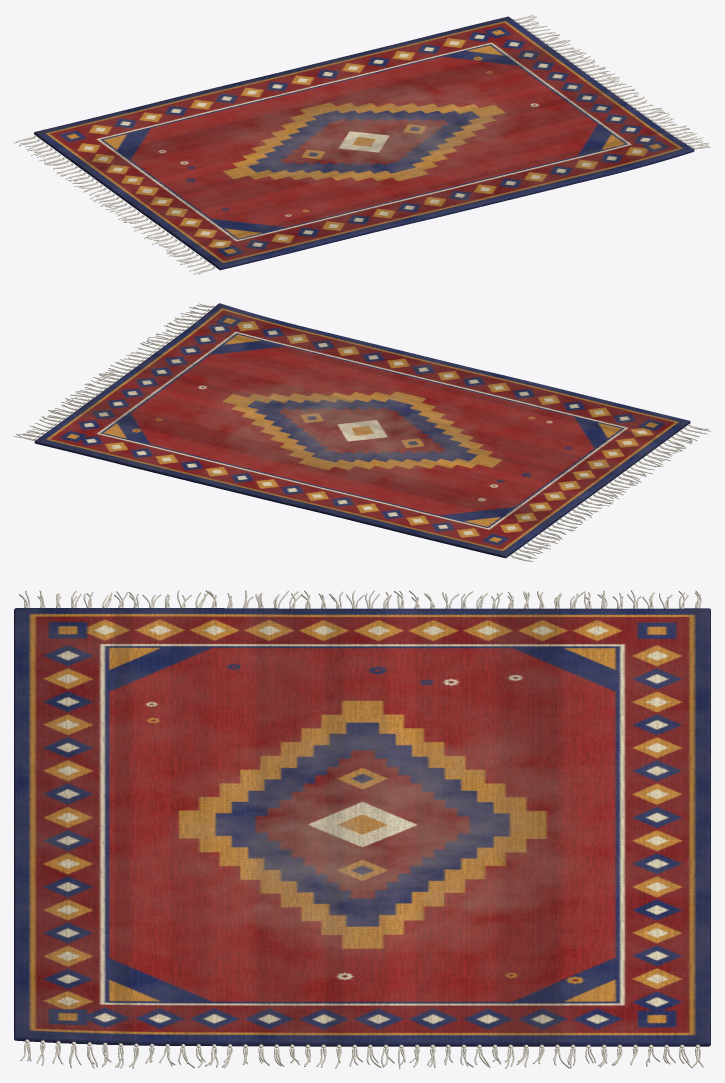
File: corner_rug.glb
The picture shows the model from 3 angles, top to bottom: view 1: azimuth 30°, elevation 25°; view 2: azimuth 150°, elevation 25°; view 3: azimuth 270°, elevation 25°; orthographic projection. The views are drawn at different scales.
Visible parts, largest first — view 1: Rug; view 2: Rug; view 3: Rug.
Boxes of the visible parts, x1,y1,x2,y2 form: Rug: (14,14,710,274); Rug: (14,303,710,561); Rug: (14,590,710,1068).
Bounding box in the file's own units: 1.54 × 0.0167 × 0.95.
Materials: 1 (1 with a texture image).
